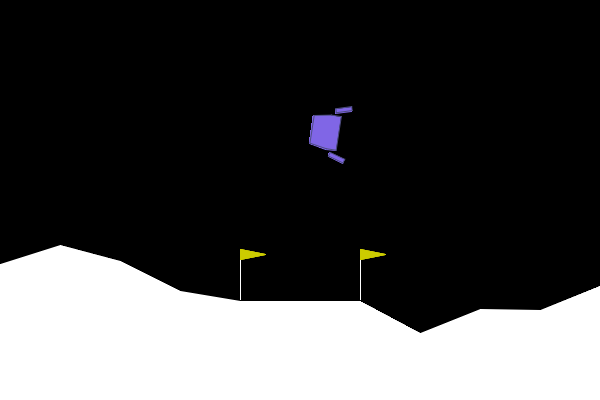lander: (305, 100, 354, 165)
